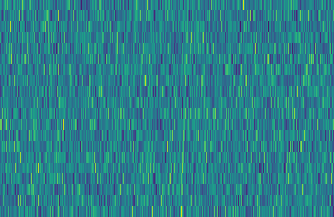signal: (176, 0, 192, 217)
